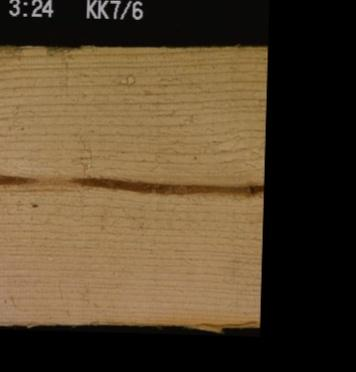wave: (174, 314, 259, 332)
